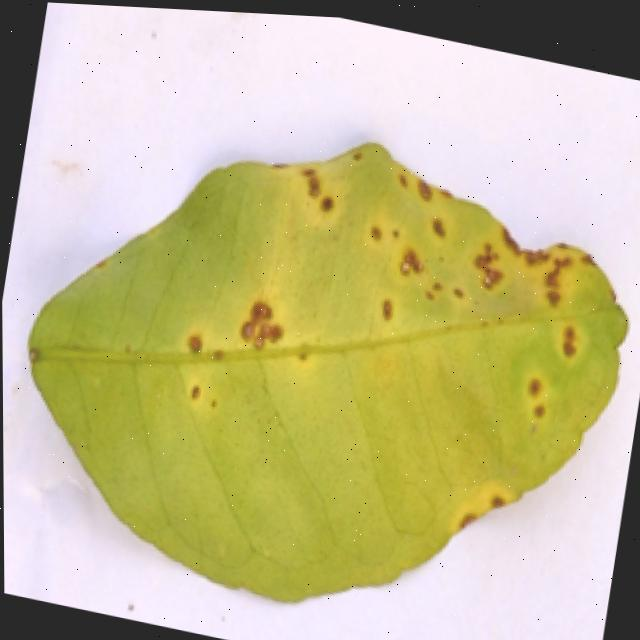canker: (32, 143, 624, 598), (220, 113, 635, 445), (186, 329, 246, 405), (236, 301, 282, 350), (278, 344, 305, 359)
